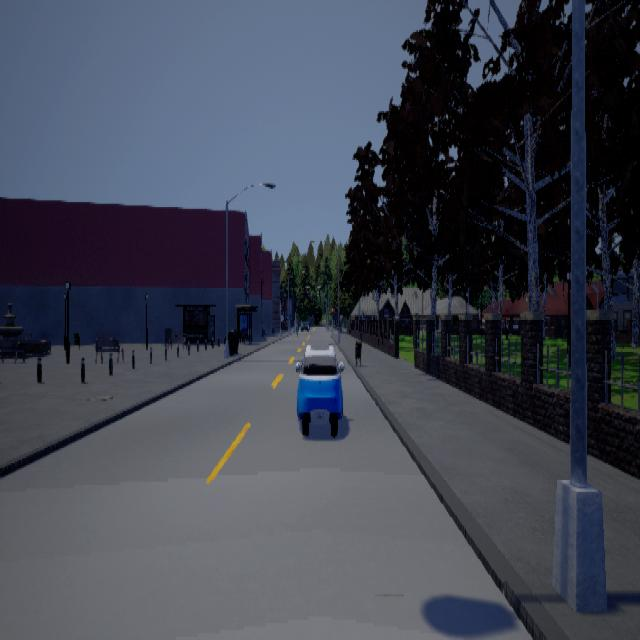vehicle: (294, 339, 344, 436)
